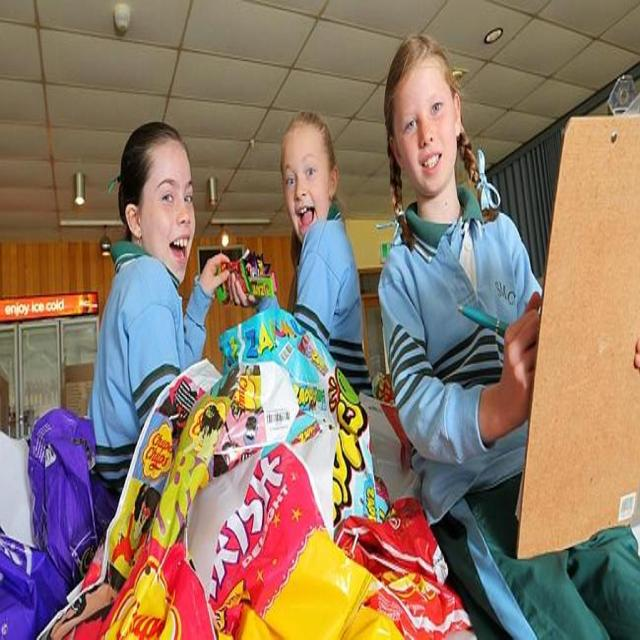Face: (148, 132, 208, 281), (397, 58, 454, 191), (281, 125, 337, 237)
